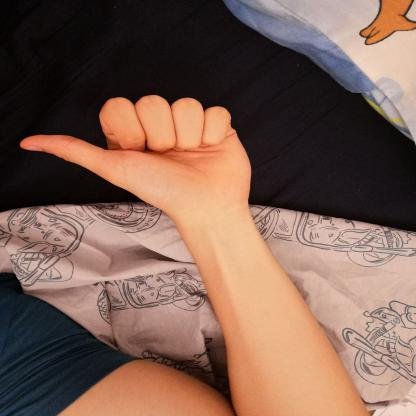DAD: (8, 87, 261, 218)
